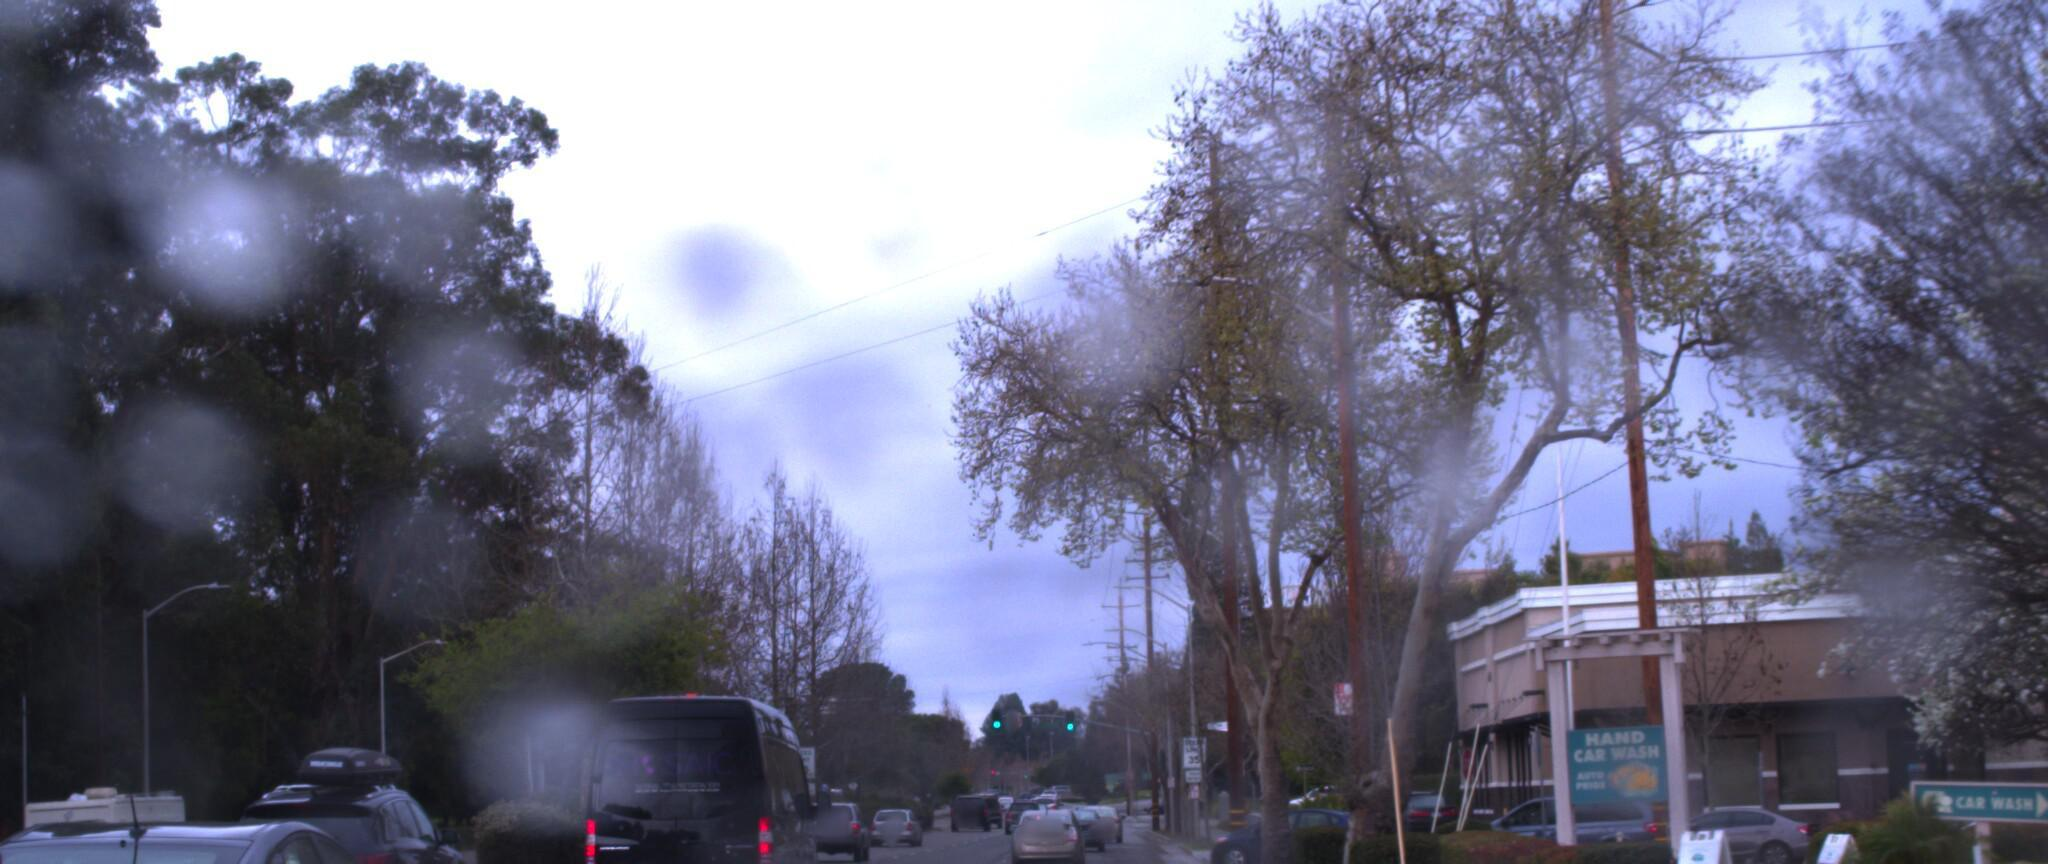car: (199, 719, 483, 864), (0, 784, 491, 864), (1434, 778, 1671, 852), (1588, 782, 1821, 854), (1004, 773, 1089, 839), (802, 780, 882, 839)
other_vehicle: (579, 666, 835, 864), (5, 764, 202, 864)
